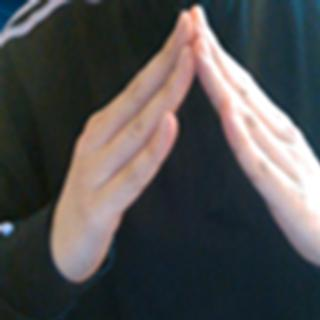HOME: (54, 3, 320, 283)
